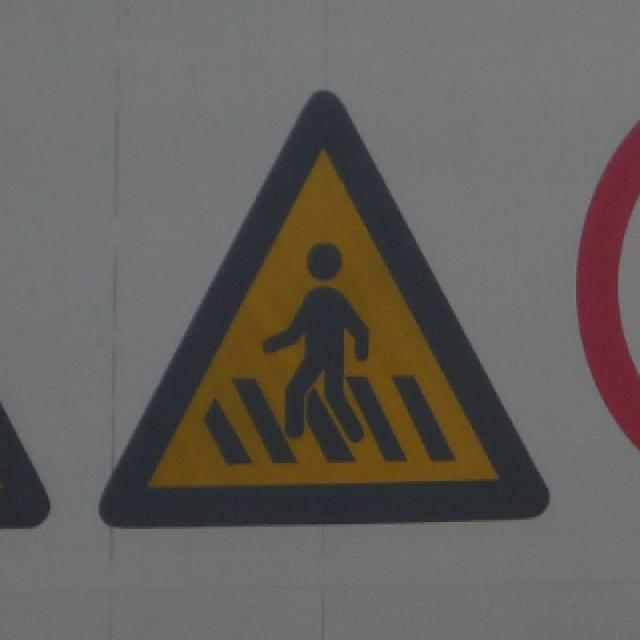Crossing: (95, 76, 567, 536)
